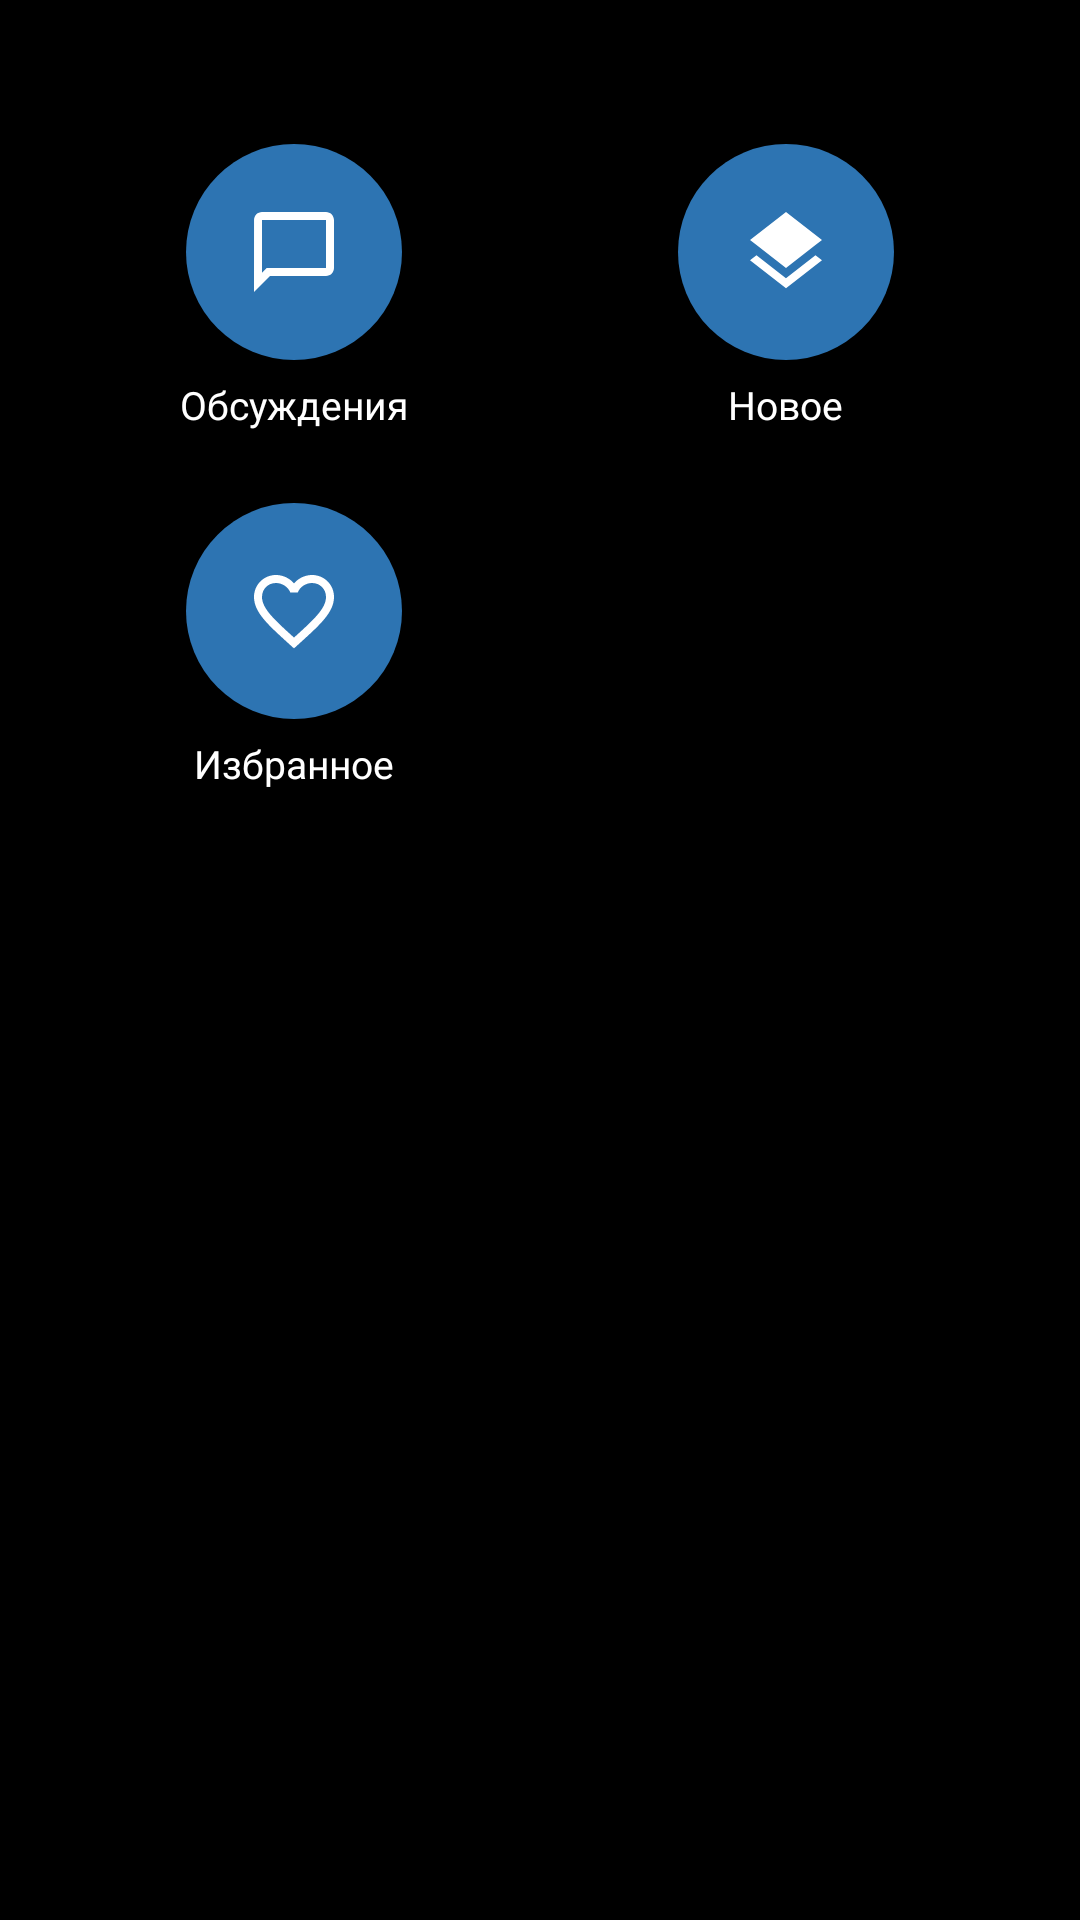

Named icons in this screenshot (1080x1920) and their bounding boxes, bbox=(x1, y1, x2, y2):
heart: bbox=(186, 503, 402, 719)
layers: bbox=(678, 144, 894, 360)
